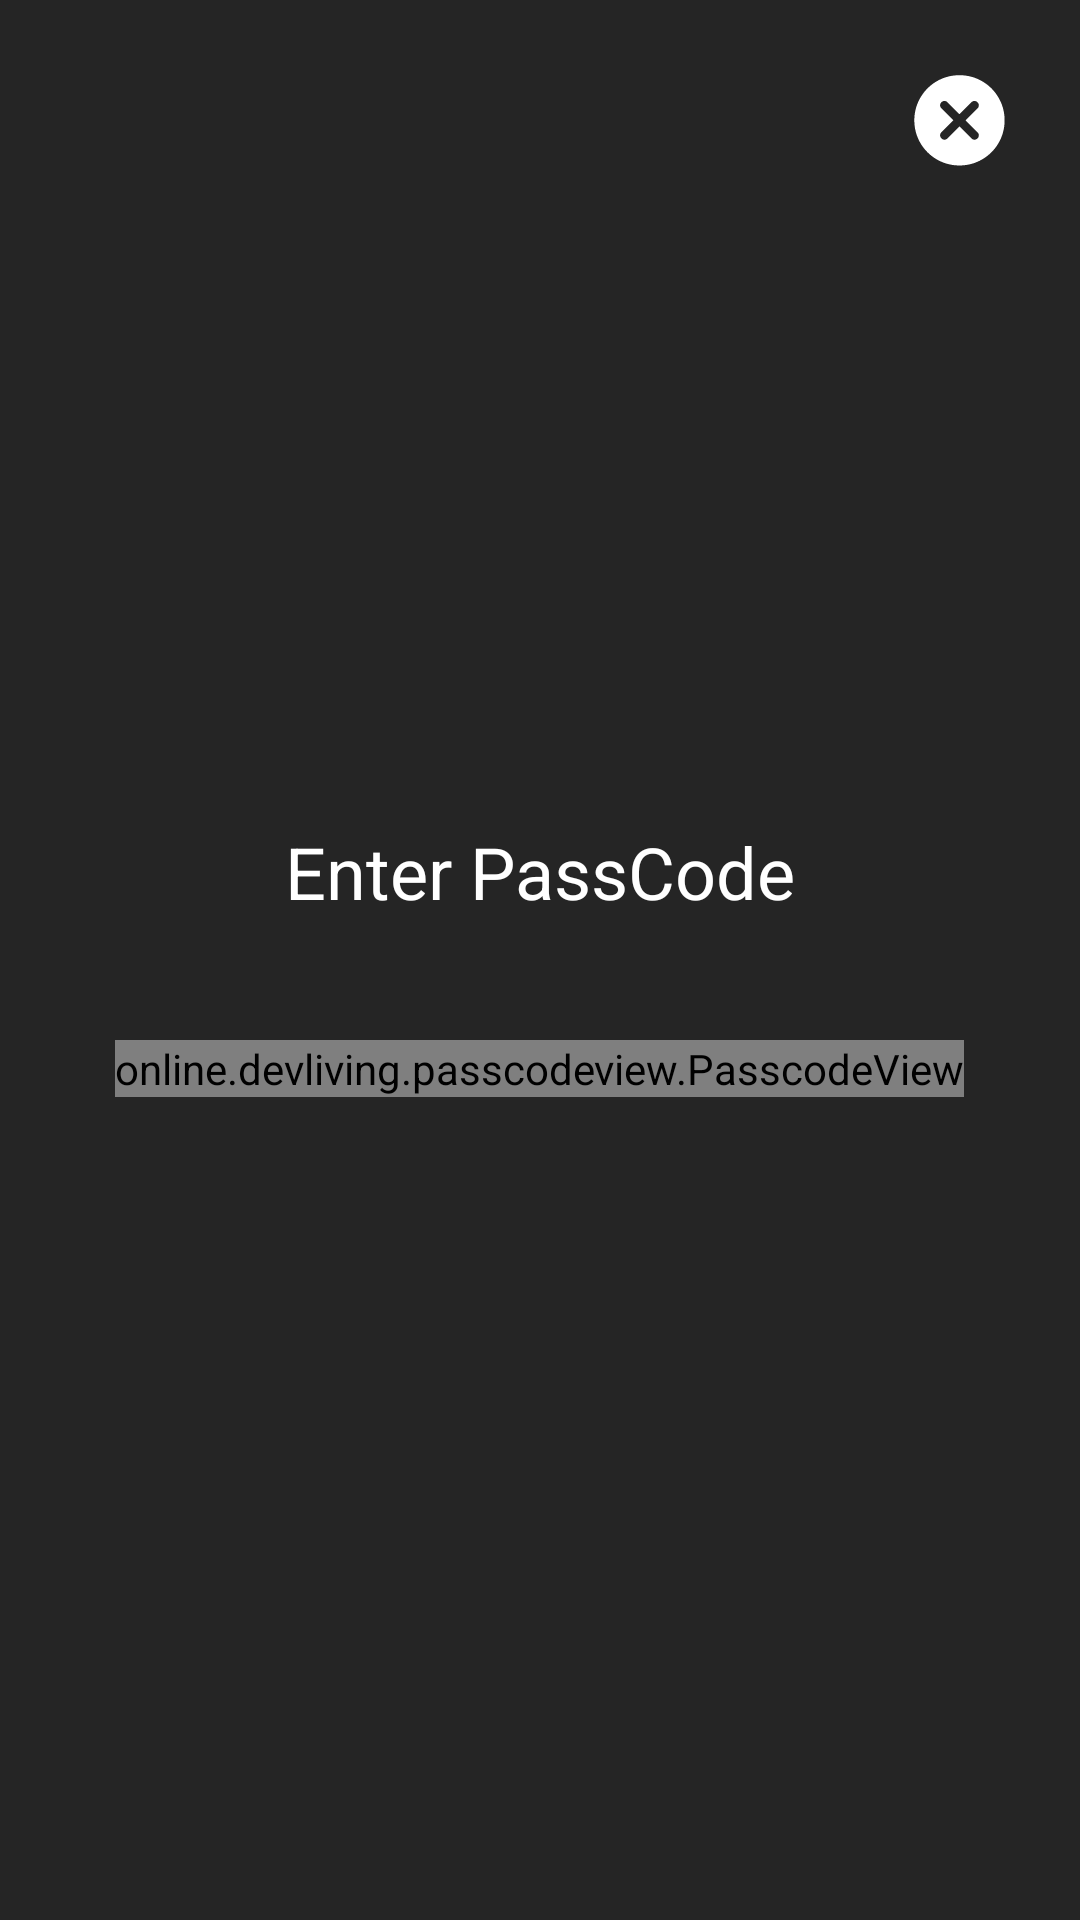

Icons on this 1080px×1920px Android screen, each with the point to tap as (x=x, y=y):
close cat: (x=959, y=120)
